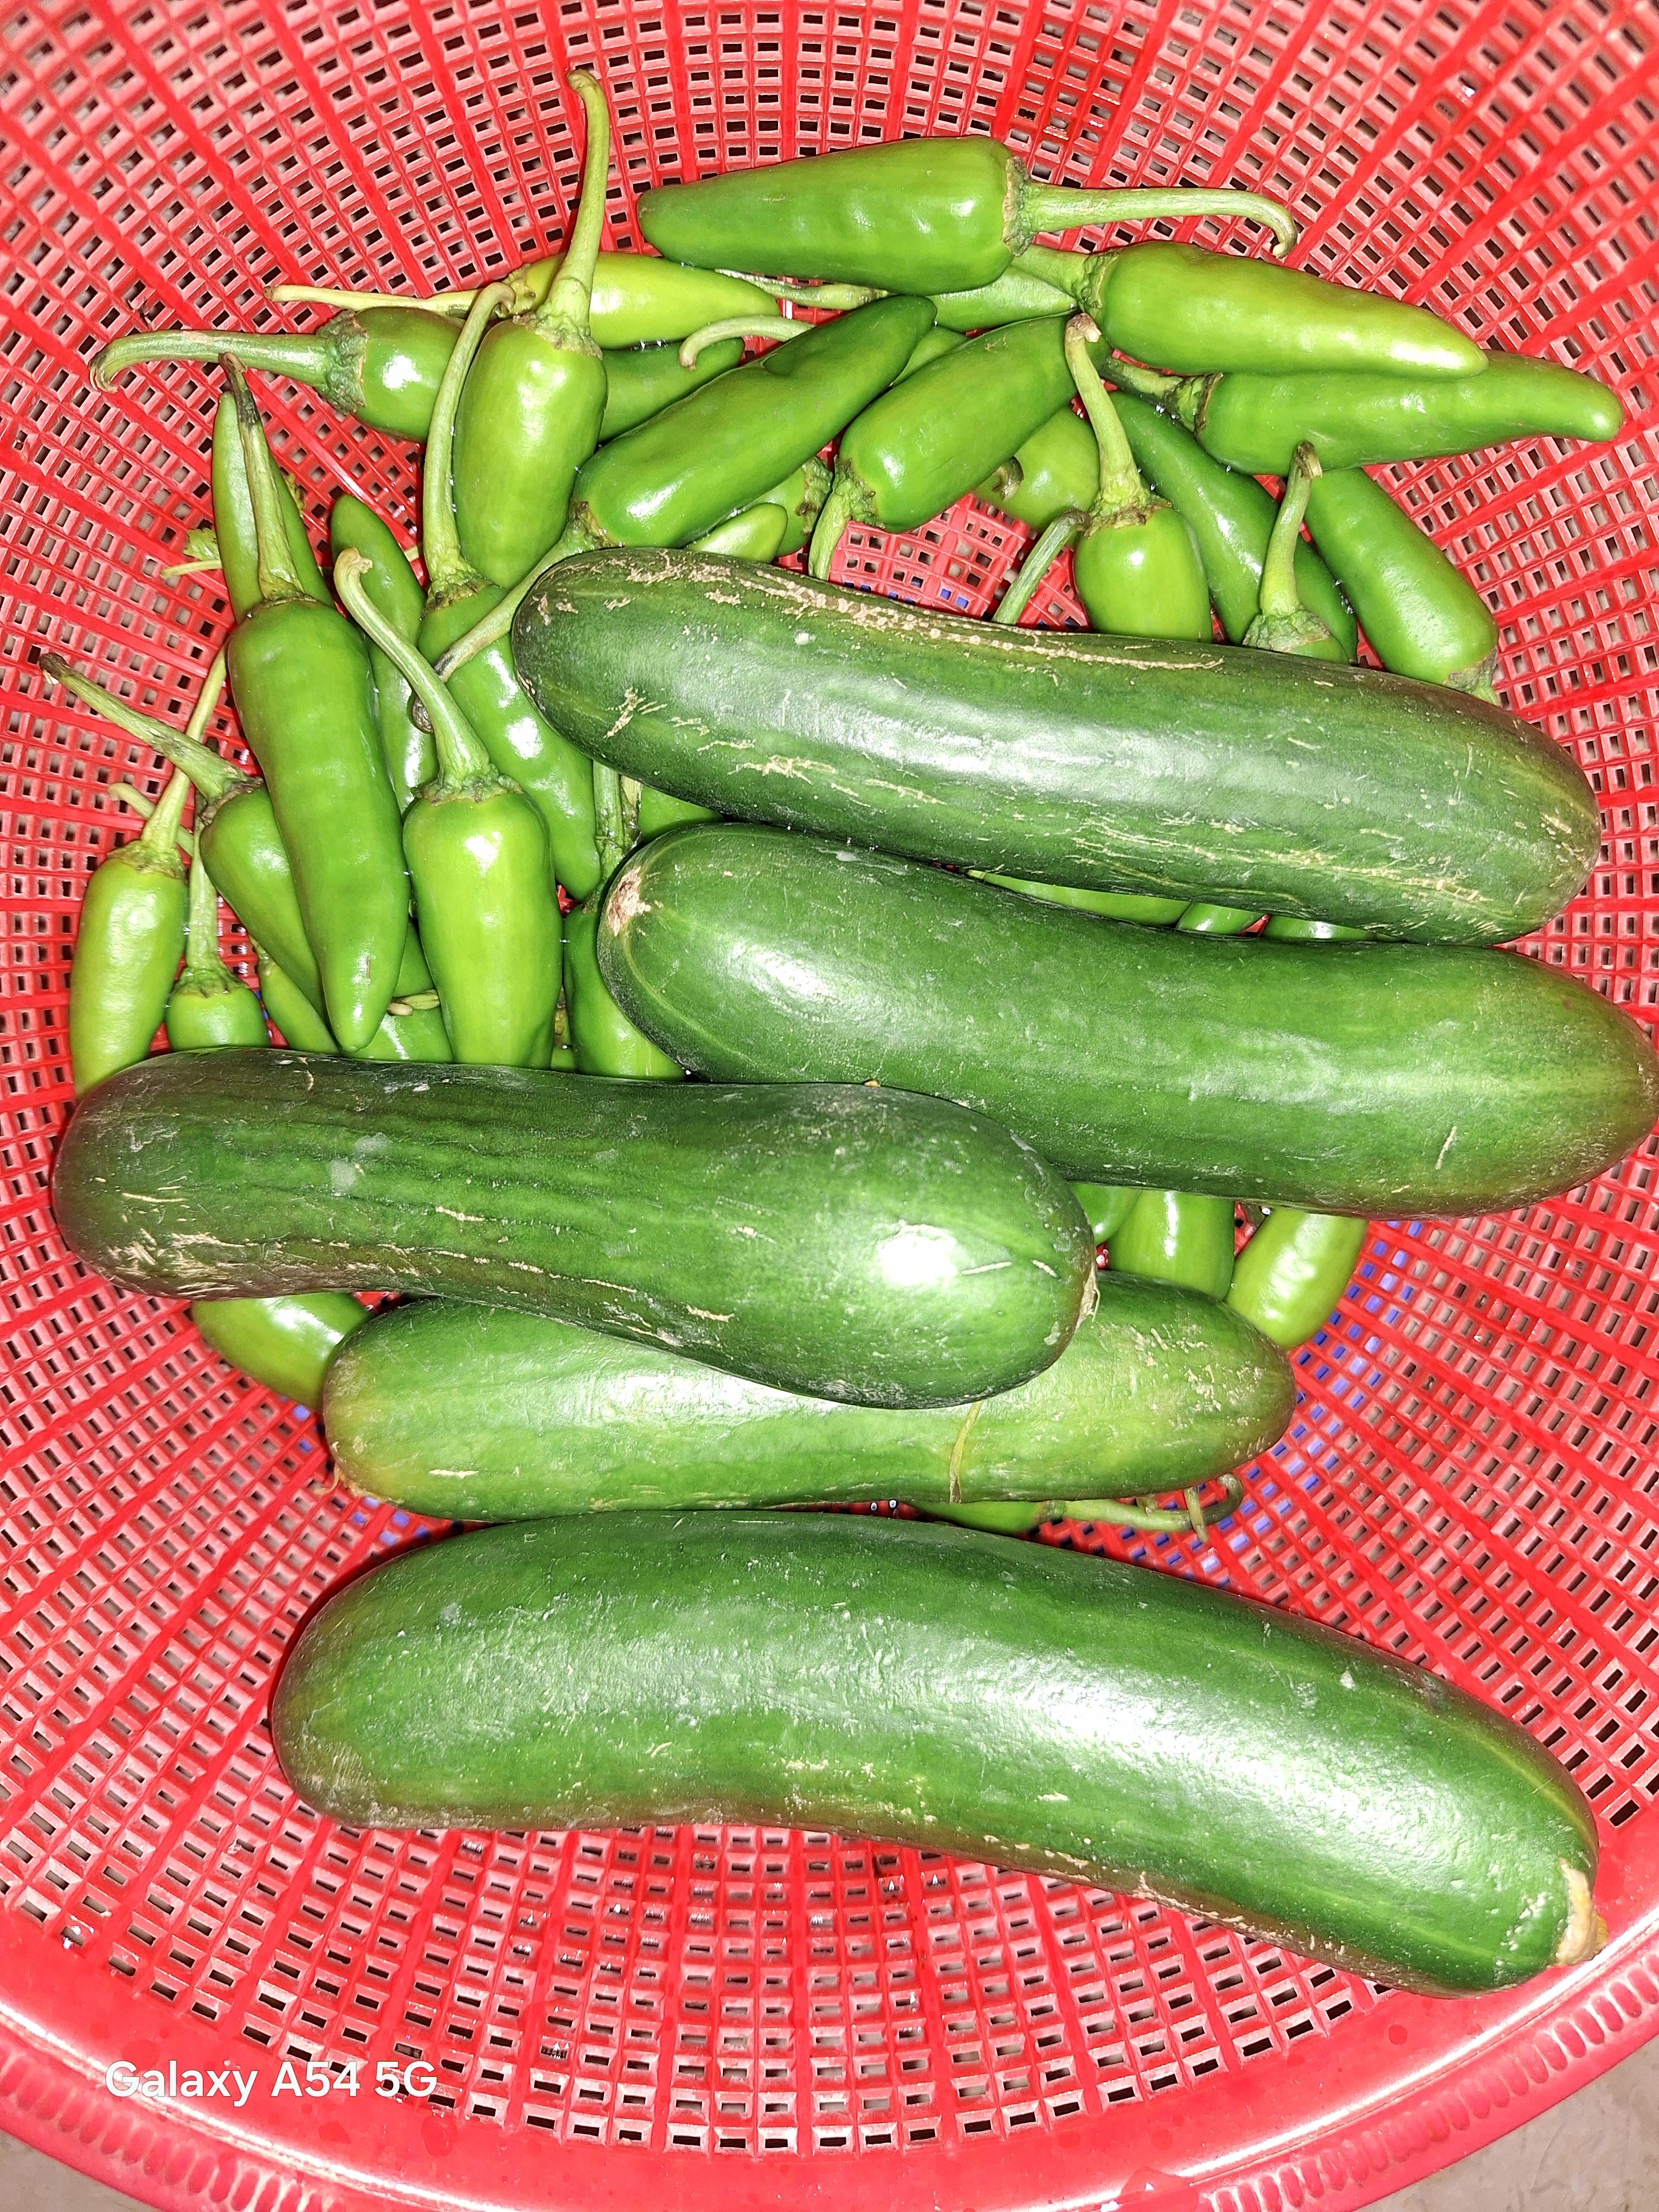non-mango: (244, 1472, 1624, 2052), (509, 517, 1631, 1226), (488, 73, 1607, 676), (33, 1026, 1105, 1428), (5, 322, 540, 1085)
